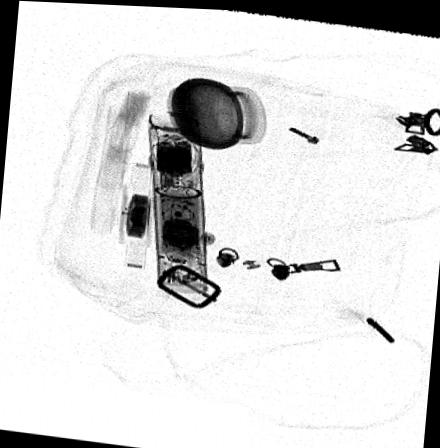Baton: (147, 108, 208, 293)
